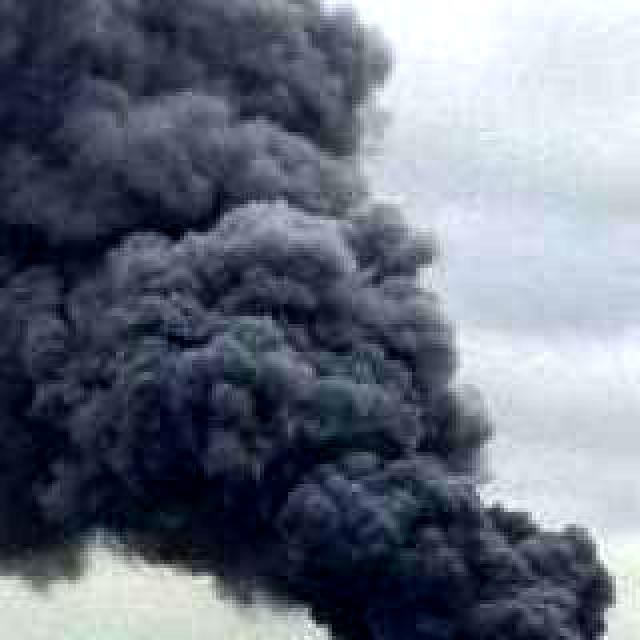smoke: (0, 0, 454, 538), (192, 348, 632, 640)
